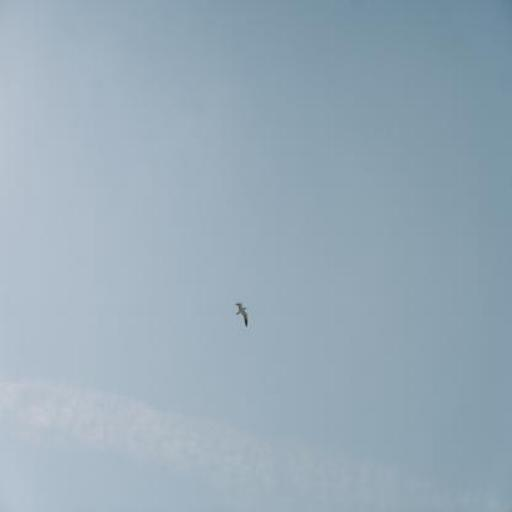bird: (235, 302, 250, 326)
